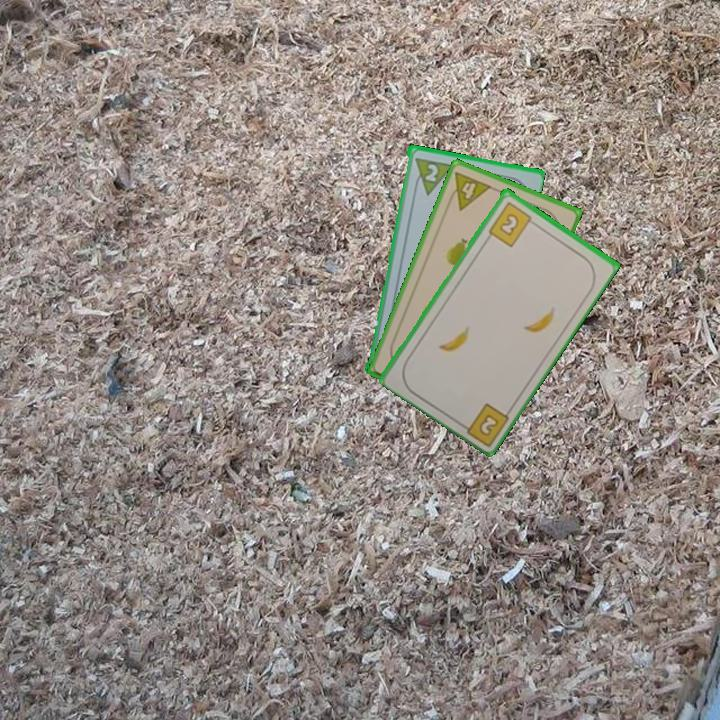2b: (485, 198, 539, 249), (455, 399, 512, 447)
2p: (421, 160, 441, 184)
4p: (443, 168, 494, 213)
